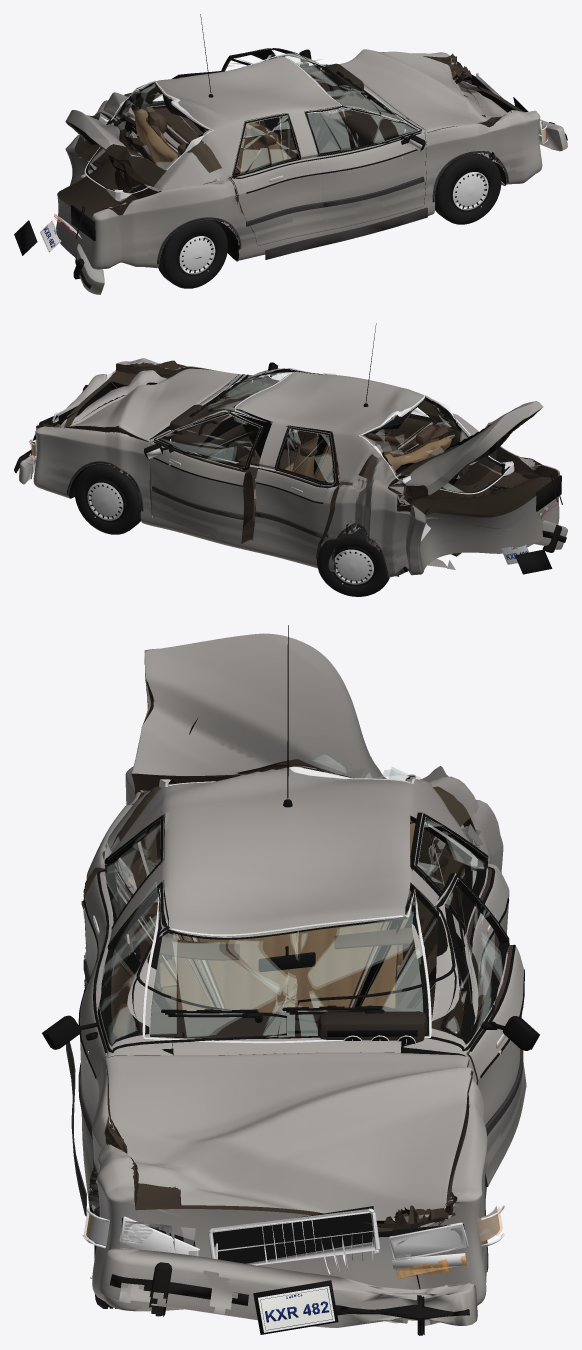
File: sedan87_rear_corner_d2_lod1.glb
3 renders of one model, top to bottom at view 1: azimuth 30°, elevation 25°; view 2: azimuth 150°, elevation 25°; view 3: azimuth 270°, elevation 25°, orthographic. The views are drawn at different scales.
Parts seen in each view (by area): view 1: Body, Door_FR, Hood, Interior, Door_RR, Wheel_FR_mesh, Wheel_RR_mesh, Glass, Trunk, Trim, Ends, Trim_FR (+6 smaller); view 2: Body, Door_FL, Hood, Door_RL, Interior, Trunk, Wheel_FL_mesh, Wheel_RL_mesh, Glass, Ends, Trim_FL, Trim_RL (+9 smaller); view 3: Body, Hood, Trunk, Interior, Glass, Ends, Bumper_F, Door_FL, Door_FR, Door_RL, Trim_FR, Trim_FL (+8 smaller).
Part boxes in pixels (bbox=[...]): Body: bbox=[56, 52, 542, 269]; Door_FR: bbox=[304, 106, 426, 230]; Hood: bbox=[339, 49, 507, 132]; Interior: bbox=[134, 63, 407, 173]; Door_RR: bbox=[230, 113, 325, 245]; Wheel_FR_mesh: bbox=[435, 153, 501, 224]; Wheel_RR_mesh: bbox=[158, 220, 227, 288]; Glass: bbox=[84, 53, 406, 201]; Trunk: bbox=[65, 110, 166, 186]; Trim: bbox=[157, 14, 508, 264]; Ends: bbox=[14, 73, 547, 255]; Trim_FR: bbox=[305, 92, 425, 207]; Body: bbox=[33, 358, 559, 577]; Door_FL: bbox=[149, 412, 264, 543]; Hood: bbox=[64, 368, 238, 441]; Door_RL: bbox=[253, 426, 339, 559]; Interior: bbox=[169, 382, 451, 509]; Trunk: bbox=[388, 401, 543, 501]; Wheel_FL_mesh: bbox=[74, 464, 140, 534]; Wheel_RL_mesh: bbox=[317, 528, 389, 596]; Glass: bbox=[169, 368, 514, 494]; Ends: bbox=[29, 370, 562, 574]; Trim_FL: bbox=[144, 405, 262, 527]; Trim_RL: bbox=[254, 427, 336, 538]; Body: bbox=[81, 766, 503, 1325]; Hood: bbox=[105, 1052, 473, 1237]; Trunk: bbox=[131, 633, 448, 790]; Interior: bbox=[129, 820, 444, 1055]; Glass: bbox=[142, 755, 431, 1043]; Ends: bbox=[82, 1205, 504, 1334]; Bumper_F: bbox=[98, 1248, 477, 1335]; Door_FL: bbox=[402, 873, 526, 1186]; Door_FR: bbox=[80, 880, 172, 1189]; Door_RL: bbox=[410, 812, 509, 1035]; Trim_FR: bbox=[42, 882, 286, 1139]; Trim_FL: bbox=[295, 874, 539, 1136].
Bounding box in the file's own units: 4.92 × 2.19 × 2.1.
Materials: 33 (5 with a texture image).
